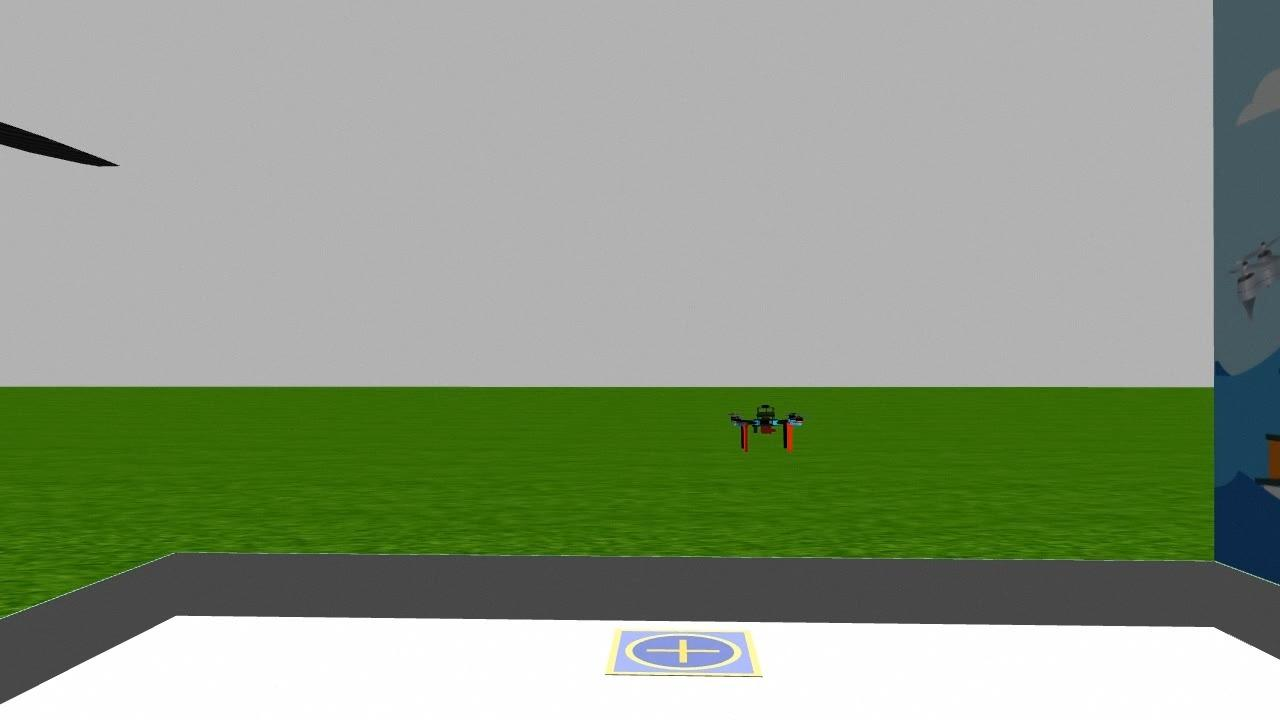UAV: (721, 397, 811, 456)
